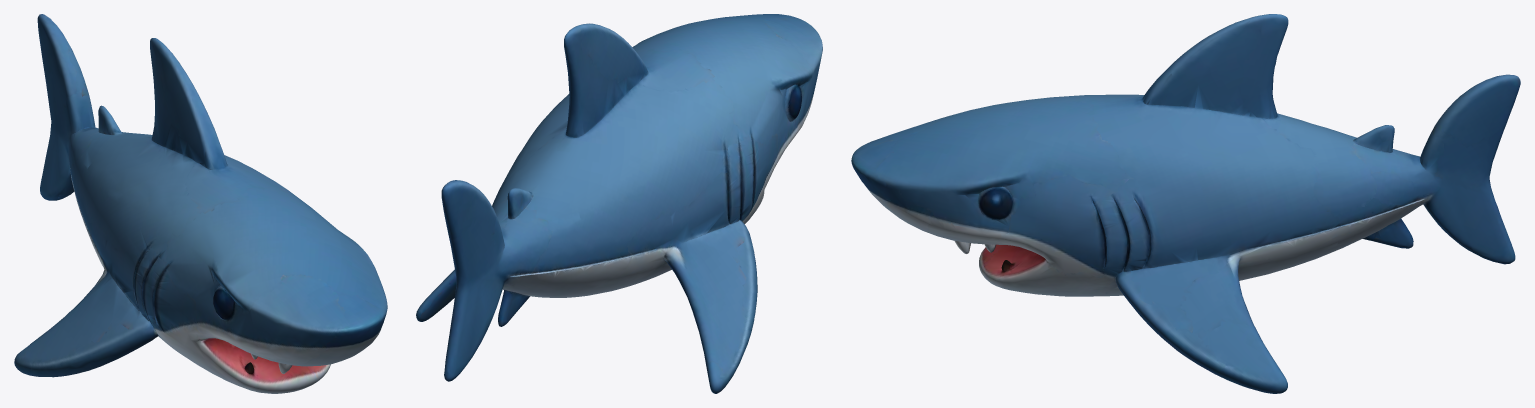
Rendered from shark_pbr.glb.
3 views of the same model, side by side, from view 1: azimuth 30°, elevation 25°; view 2: azimuth 150°, elevation 25°; view 3: azimuth 270°, elevation 25° (orthographic). The views are drawn at different scales.
Parts seen in each view (by area): view 1: model; view 2: model; view 3: model.
Boxes of the visible parts, x1,y1,x2,y2 form: model: [14, 14, 387, 393]; model: [416, 14, 822, 393]; model: [851, 14, 1520, 393].
Bounding box in the file's own units: 0.9151 × 0.939 × 1.83.
Materials: 1 (1 with a texture image).
